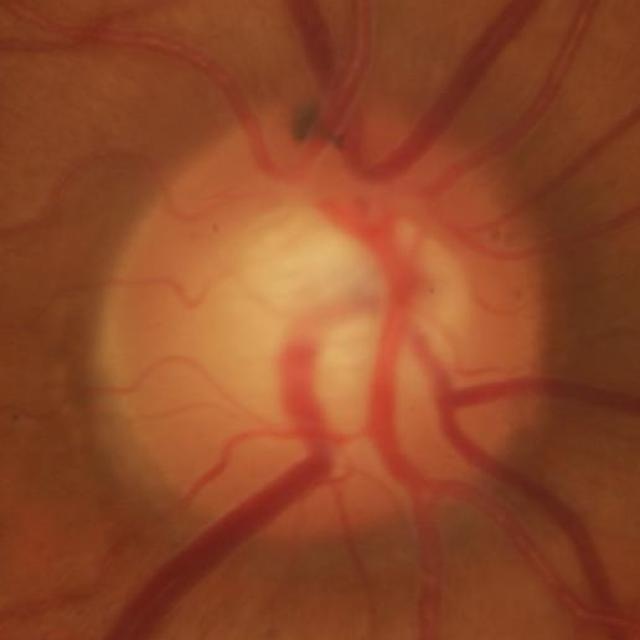OC: (207, 205, 471, 430)
OD: (96, 116, 550, 528)
